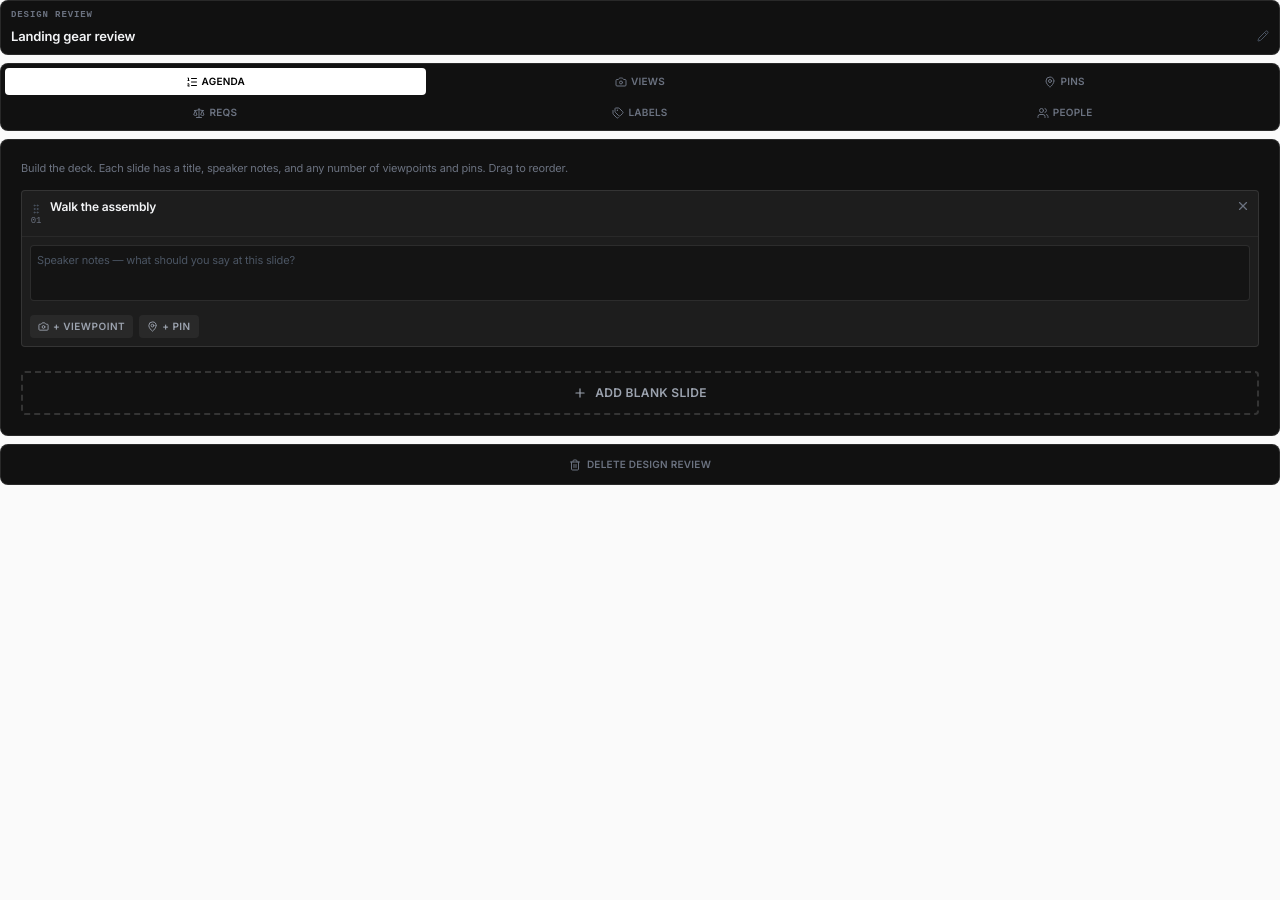
deleting the design review › asks first, naming the review, and deletes nothing until it is answered
Click the button "Delete design review".
click(640, 465)  # box [7,451,1273,478]
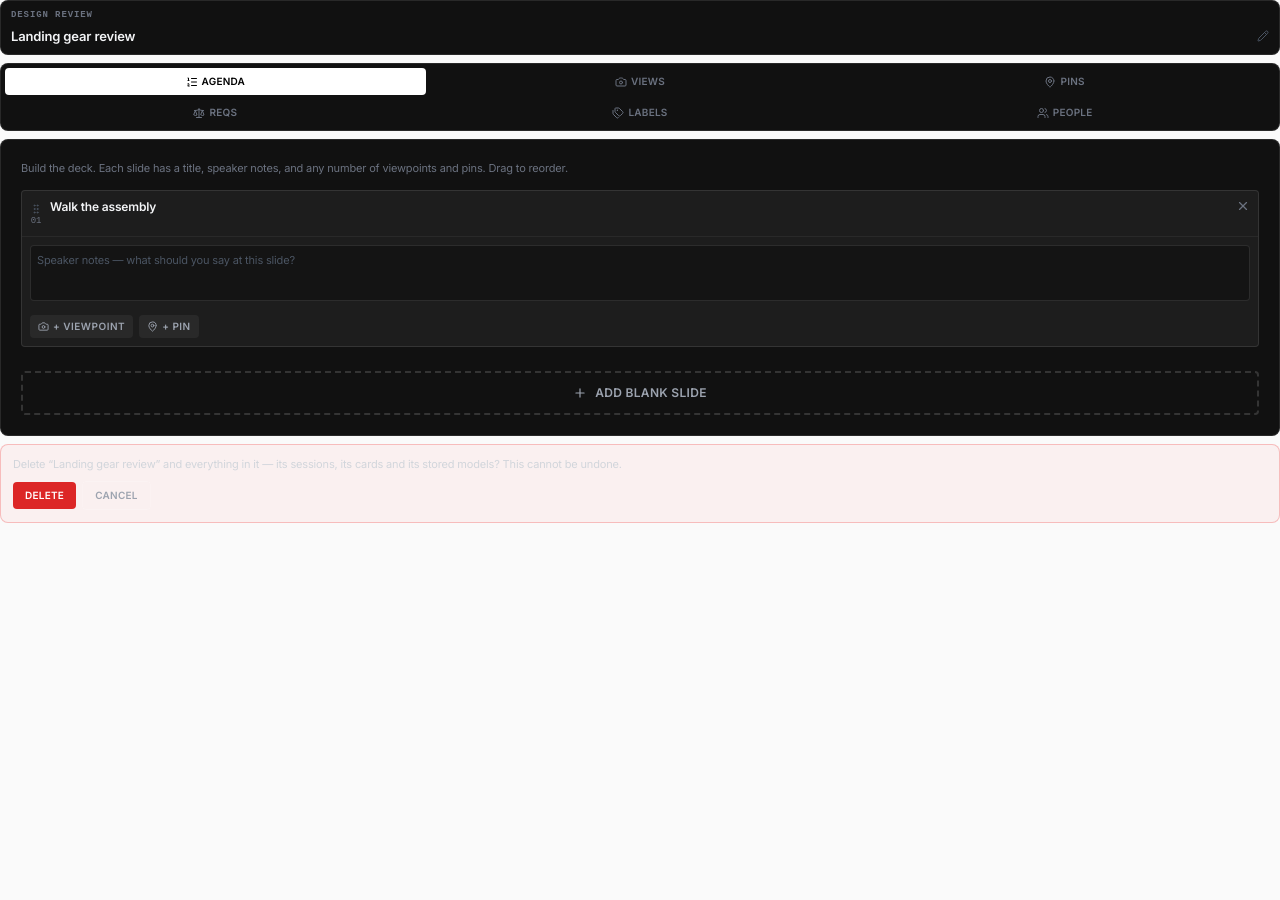
Check: the element with test id "delete-review" is shown, box [0,444,1279,522]
Check: the element with test id "delete-review" shows "Landing gear review", box [53,457,156,471]
Check: the text "This cannot be undone" is shown, box [156,457,622,471]
